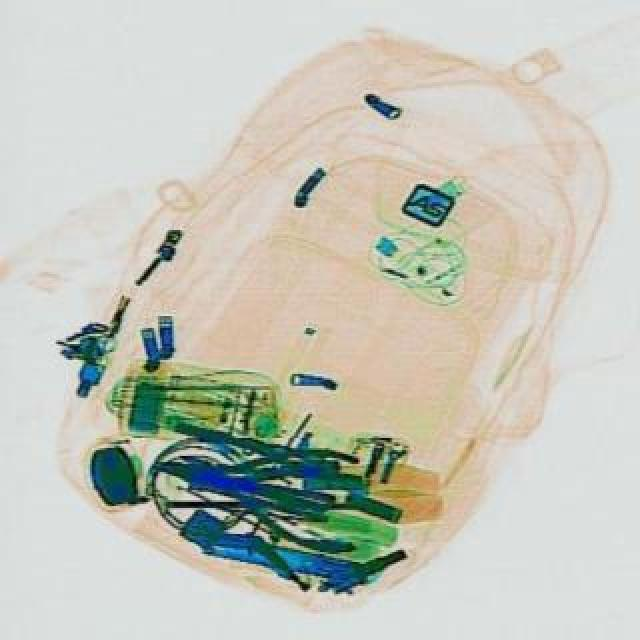wrench: (138, 410, 378, 558)
